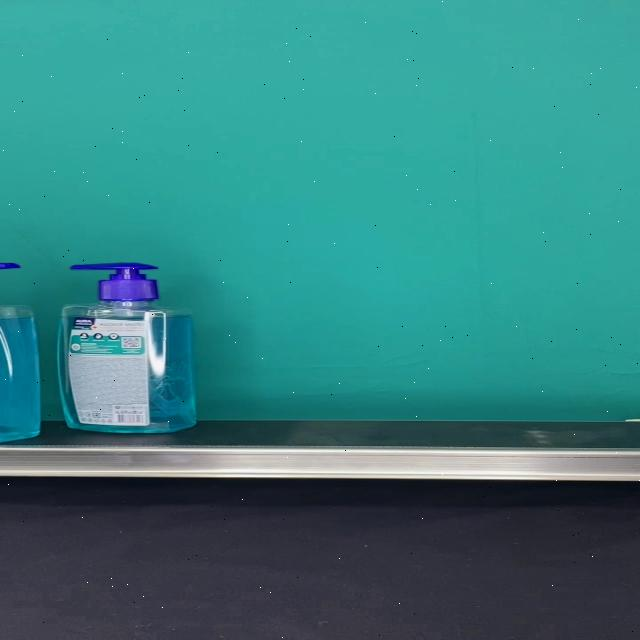Bottle: (57, 262, 197, 433)
Cap: (69, 262, 159, 302)
